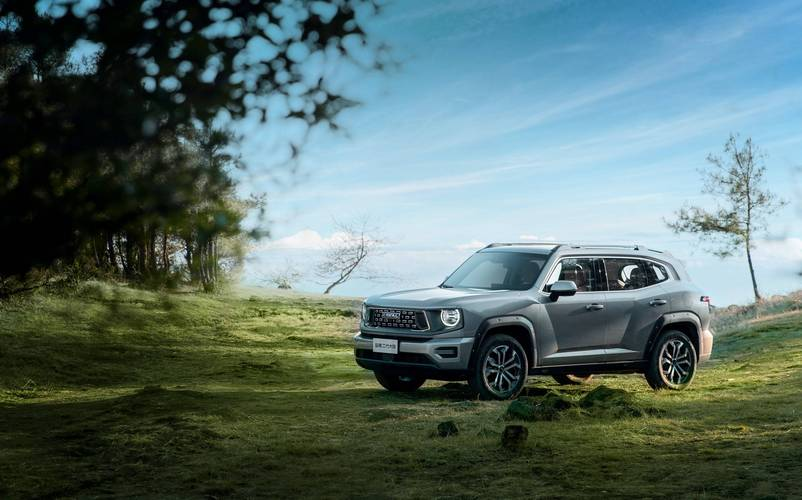汽车: (348, 238, 717, 400)
